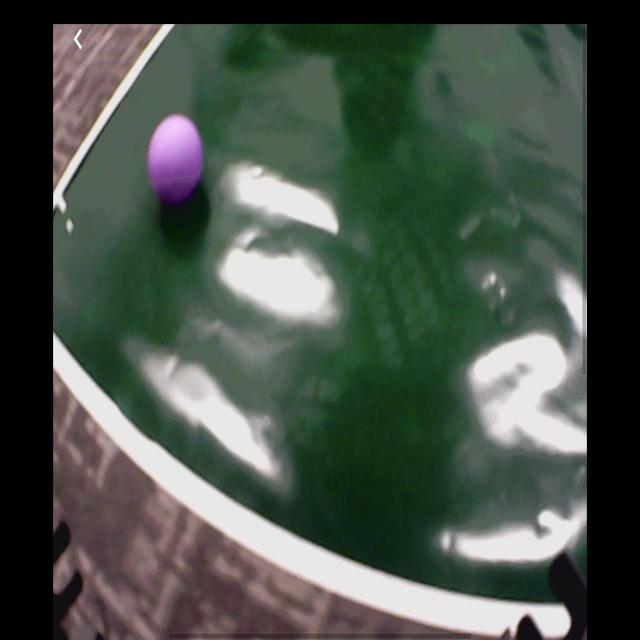ball: (148, 115, 204, 205)
